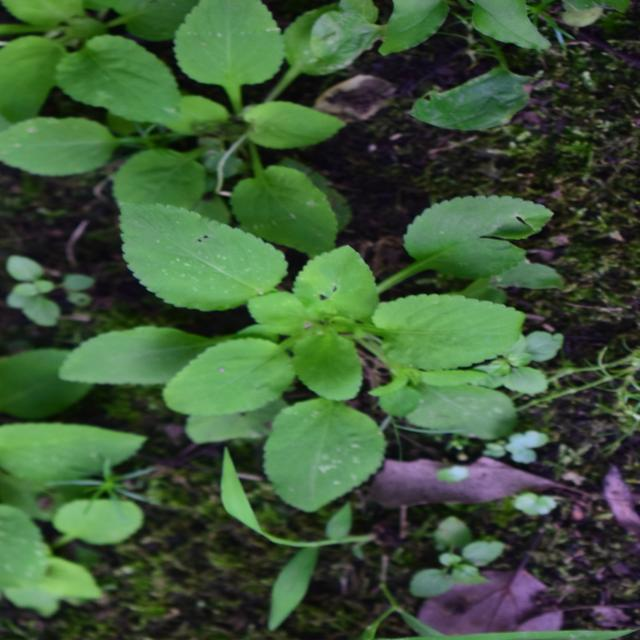Viola: (147, 108, 458, 525)
